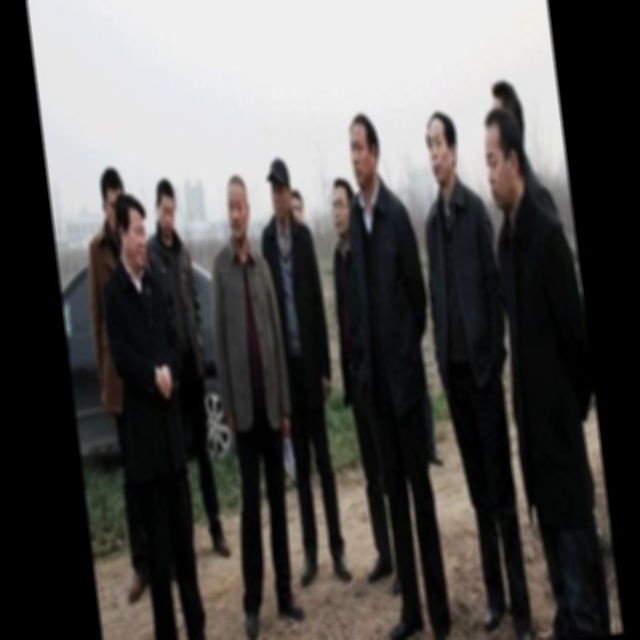Con_Casco: (265, 153, 296, 222)
Sin_Casco_Mascarrilla: (480, 107, 533, 212), (421, 107, 463, 187), (345, 110, 386, 190), (222, 172, 254, 244)
